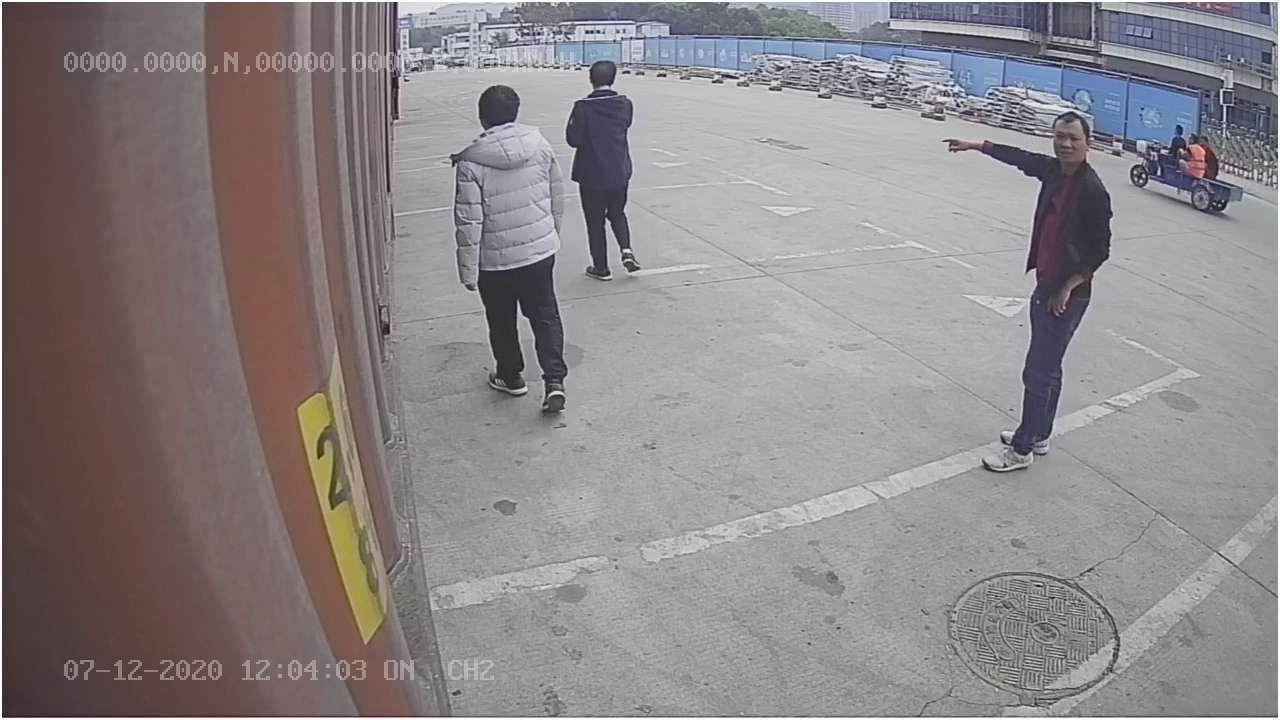person: (936, 99, 1124, 478), (447, 79, 567, 431)
